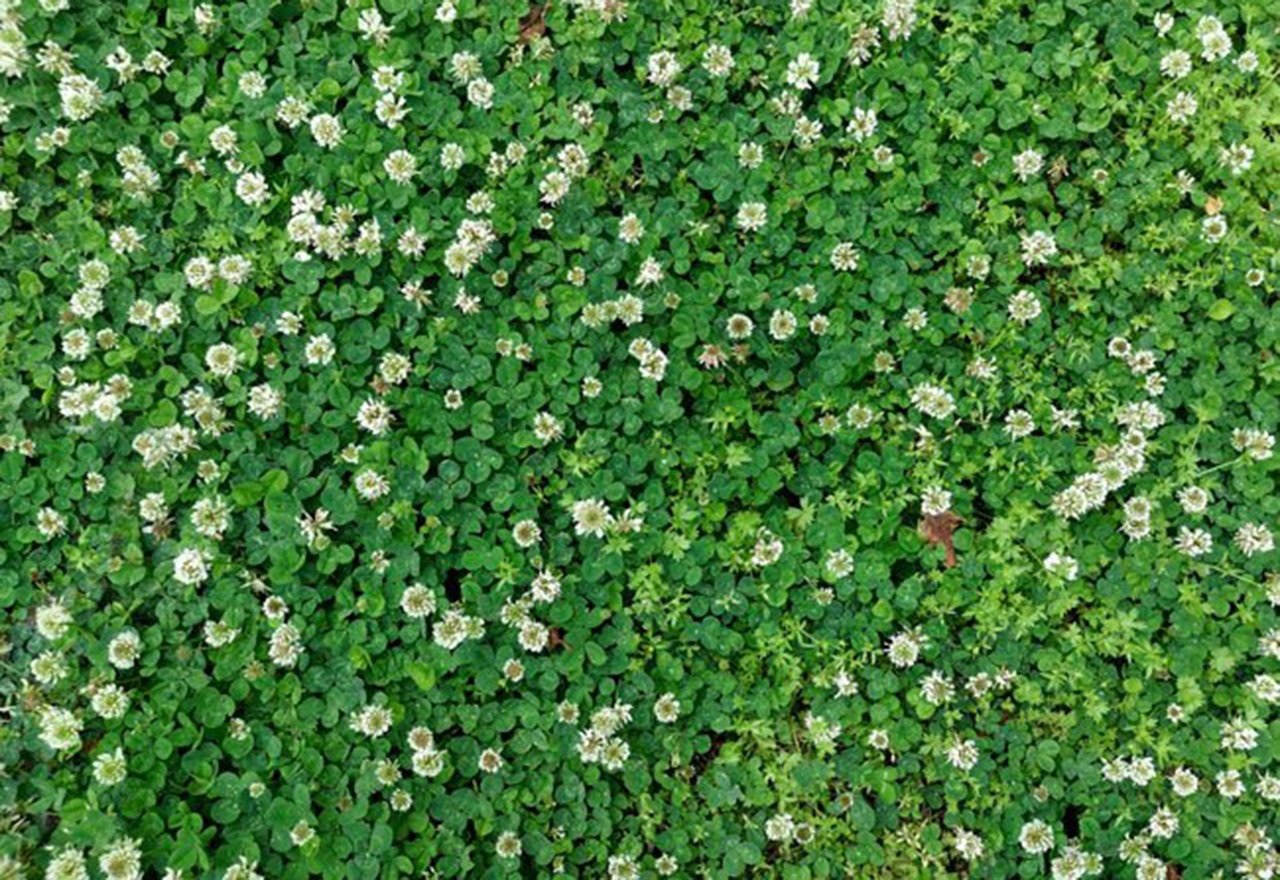clover: (2, 6, 1272, 880)
